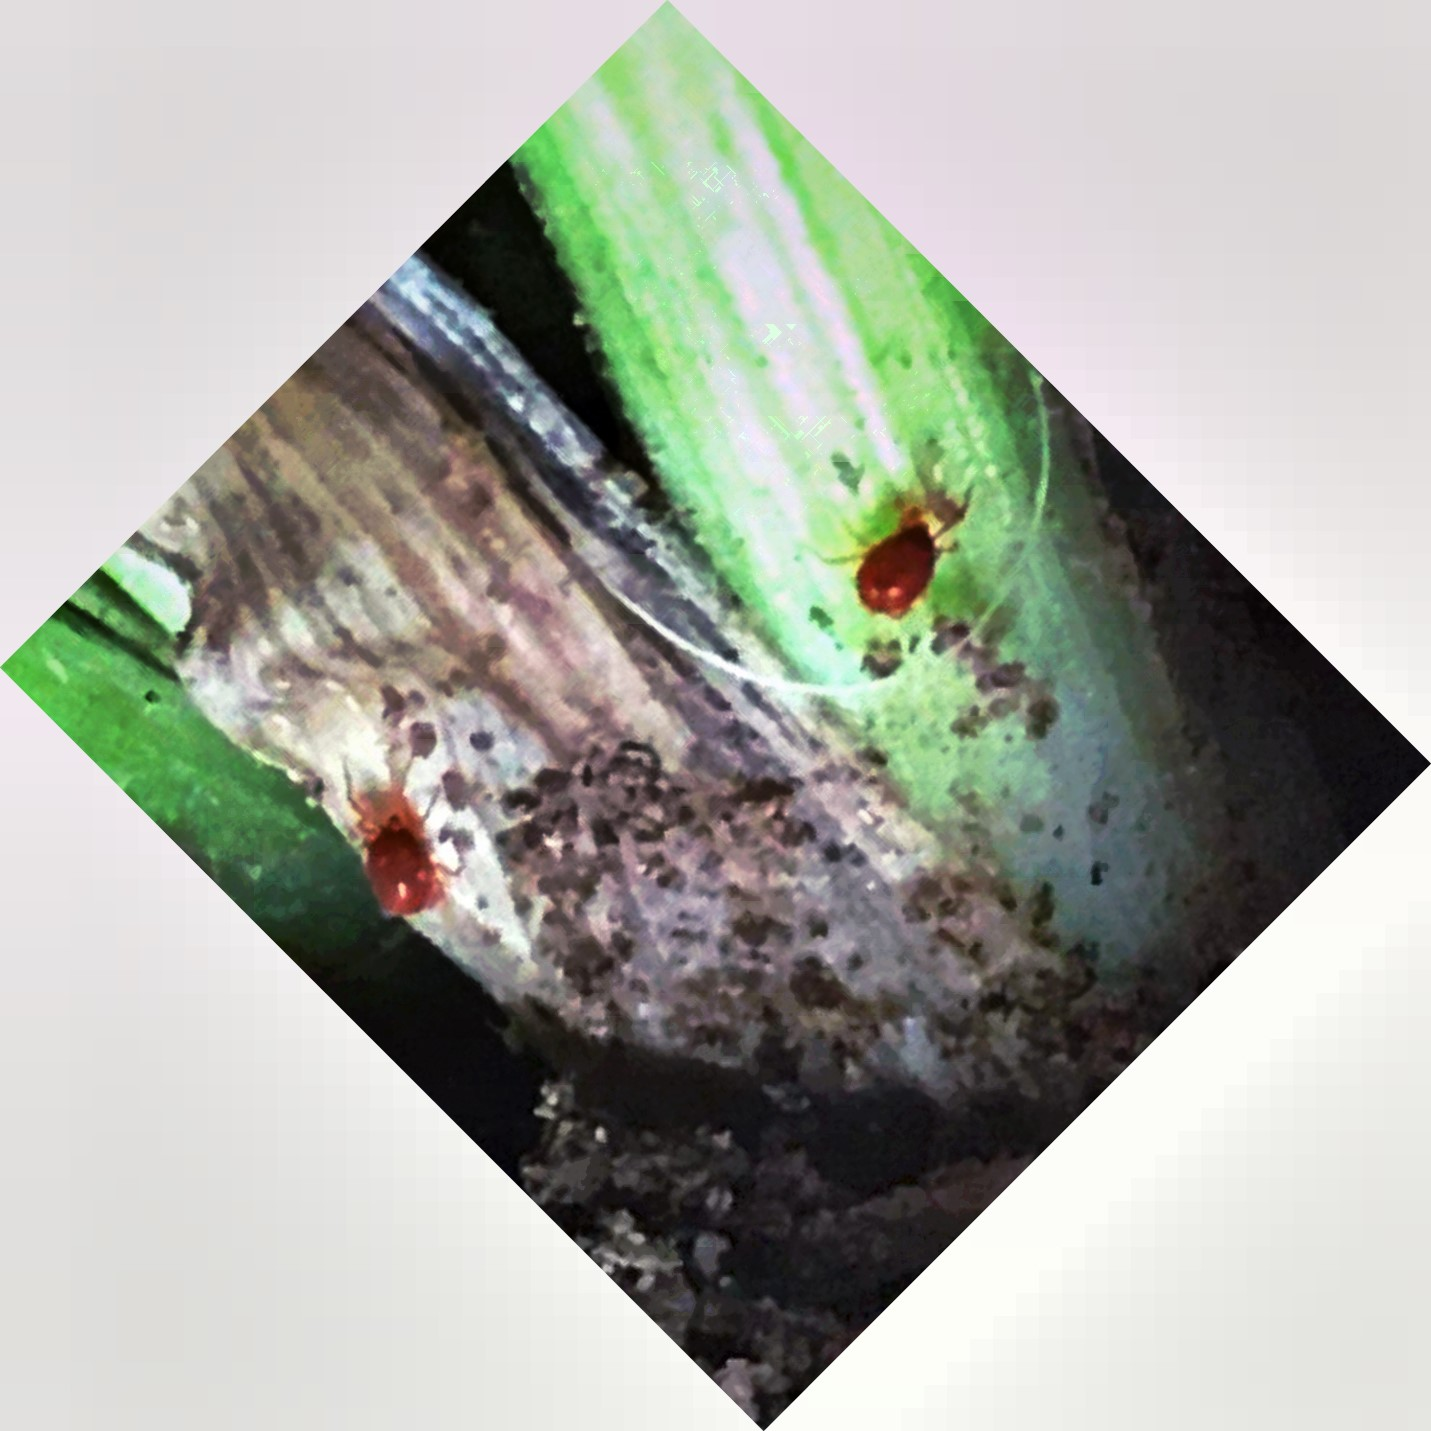Wheat Red Spider: (324, 750, 470, 941)
